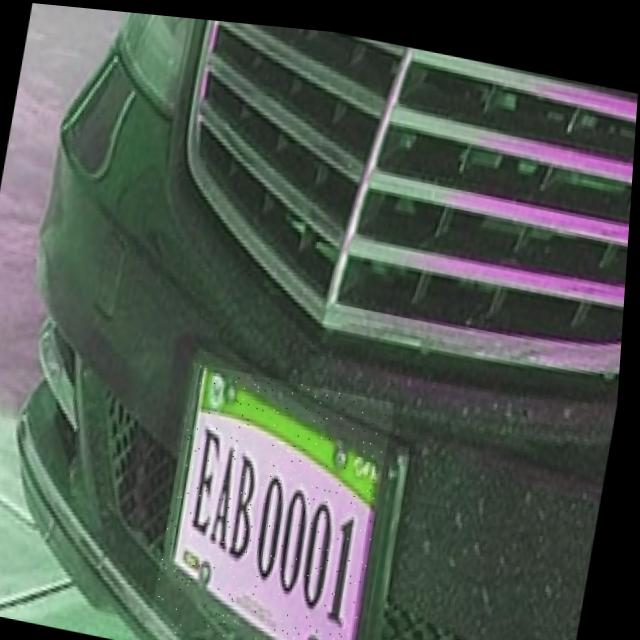license_plate: (156, 355, 400, 640)
